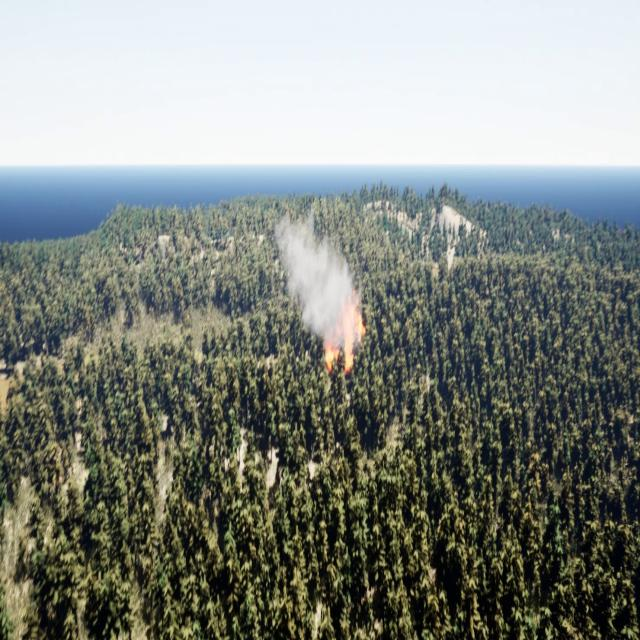fire: (321, 308, 366, 375)
smoke: (276, 217, 362, 357)
